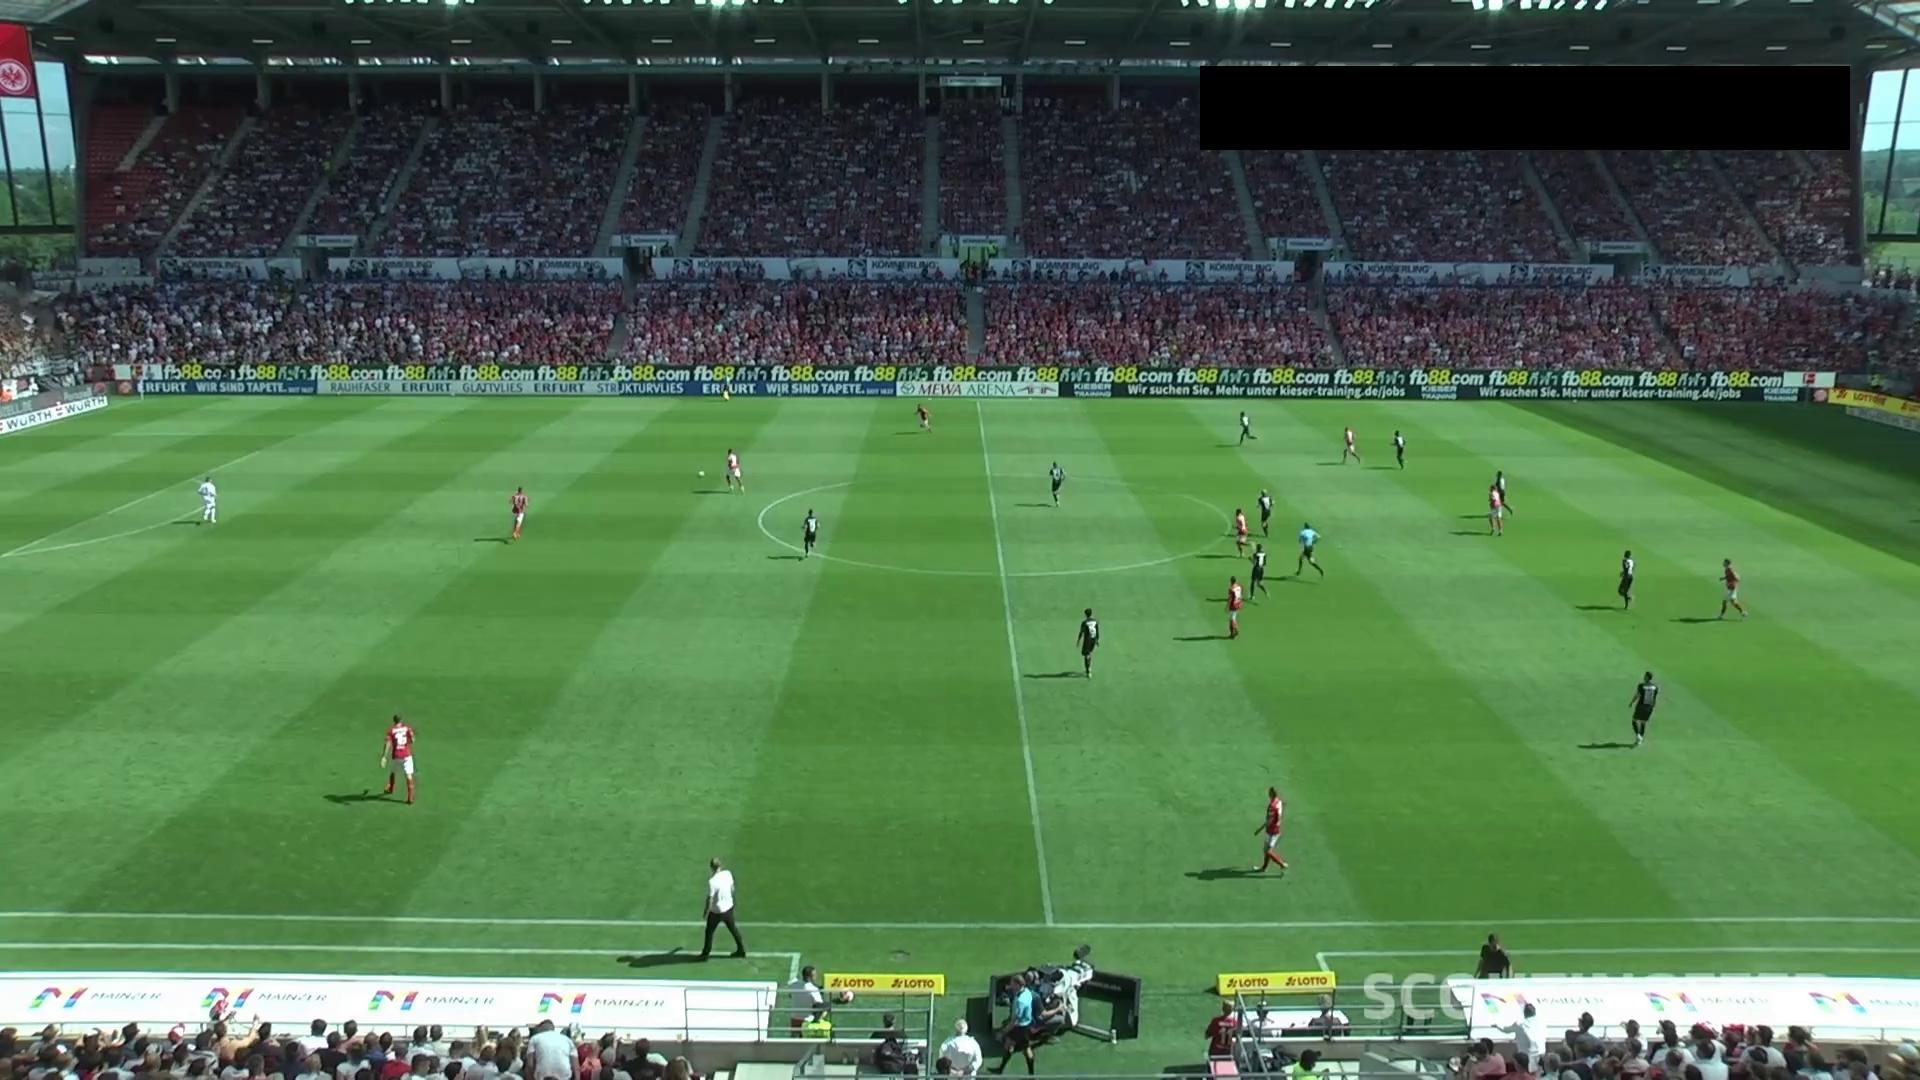Location-of-ball: (688, 460, 712, 493)
